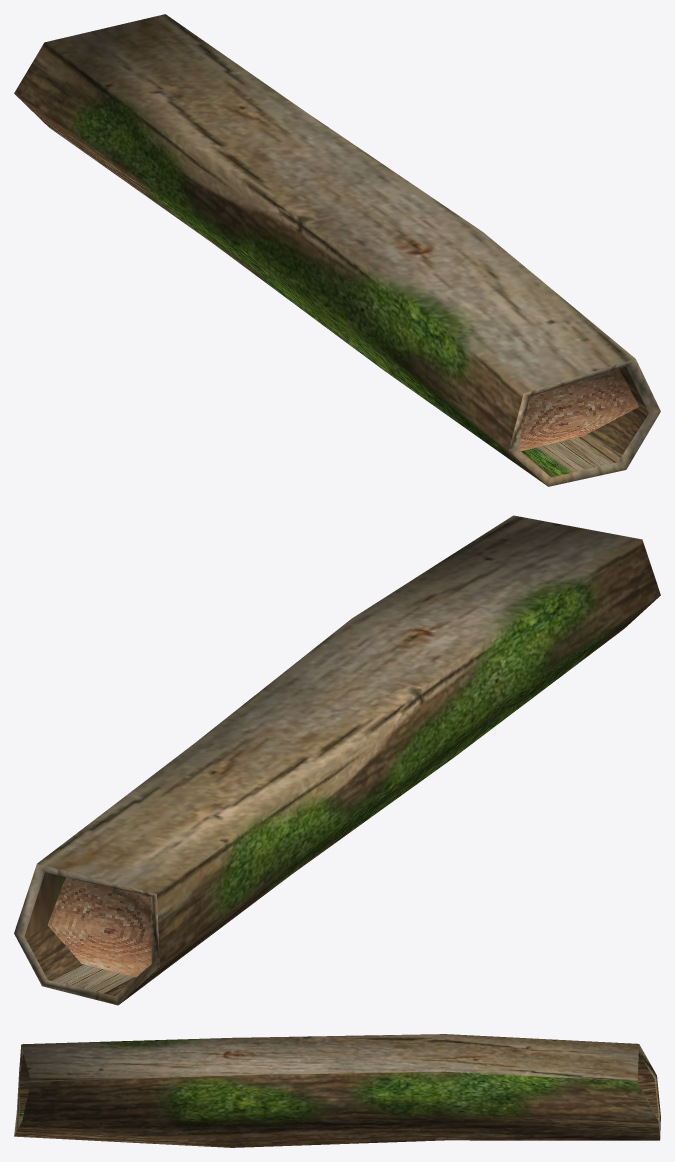
The model's file is Log_Bridge.glb.
3 views of the same model, one above another, from view 1: azimuth 30°, elevation 25°; view 2: azimuth 150°, elevation 25°; view 3: azimuth 270°, elevation 25° (orthographic). The views are drawn at different scales.
Parts seen in each view (by area): view 1: Log_Bridge; view 2: Log_Bridge; view 3: Log_Bridge.
Boxes of the visible parts, x1,y1,x2,y2 form: Log_Bridge: [14, 14, 660, 486]; Log_Bridge: [14, 515, 660, 1005]; Log_Bridge: [14, 1034, 660, 1147].
Size of the model in its own units: 0.6495 by 0.503 by 3.54.
2 materials, 2 textured.
